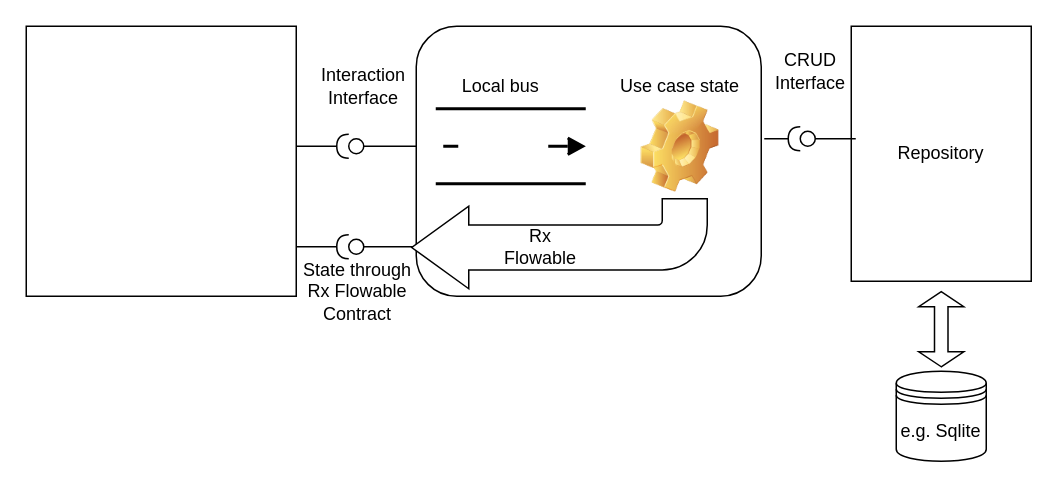
Image size: 1058x488. Some labels were removed from this diagram. Here are the shapes that lost their labels. From the top down, the centre of each, then its label:
(160,160): Activity/Fragment/Adapter
(510,145): FIFO
